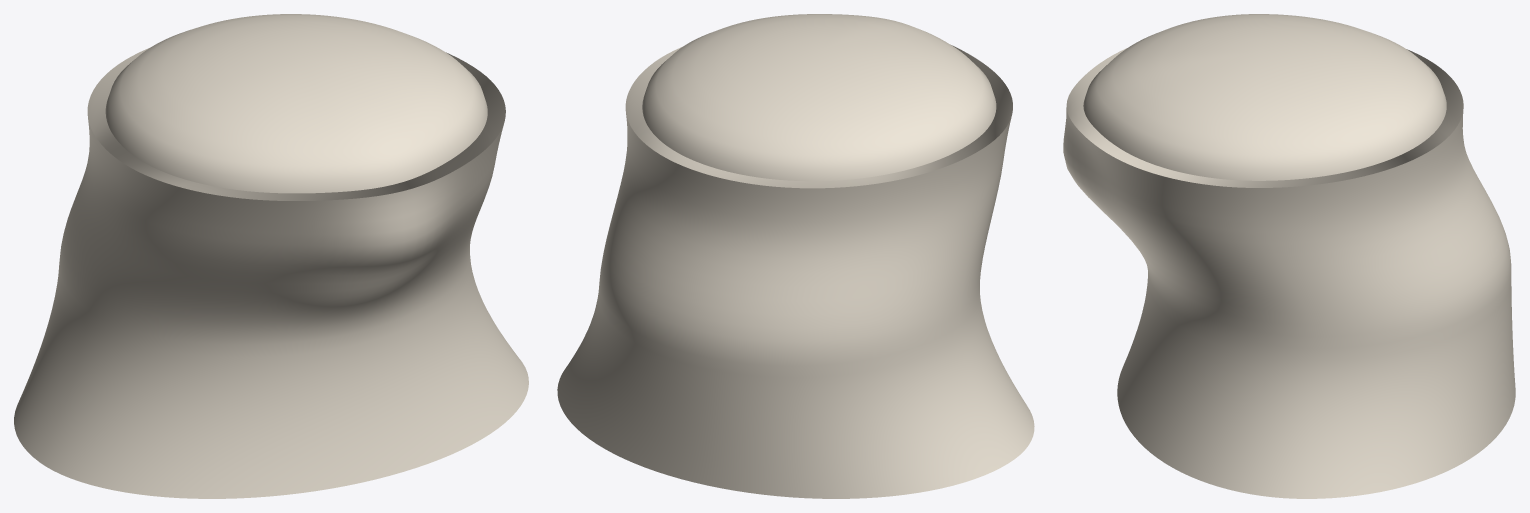
The model's file is th-neck.glb.
3 renders of one model, left to right at view 1: azimuth 30°, elevation 25°; view 2: azimuth 150°, elevation 25°; view 3: azimuth 270°, elevation 25°, orthographic. The views are drawn at different scales.
Parts seen in each view (by area): view 1: th-neck; view 2: th-neck; view 3: th-neck.
Boxes of the visible parts, x1,y1,x2,y2 form: th-neck: (14,14,528,498); th-neck: (557,14,1034,498); th-neck: (1063,14,1515,498).
Size of the model in its own units: 0.1193 by 0.0889 by 0.1073.
